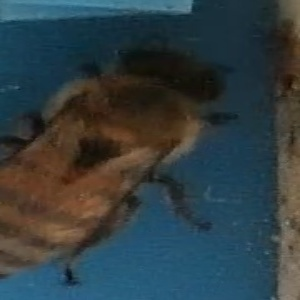bee: (3, 36, 235, 289)
